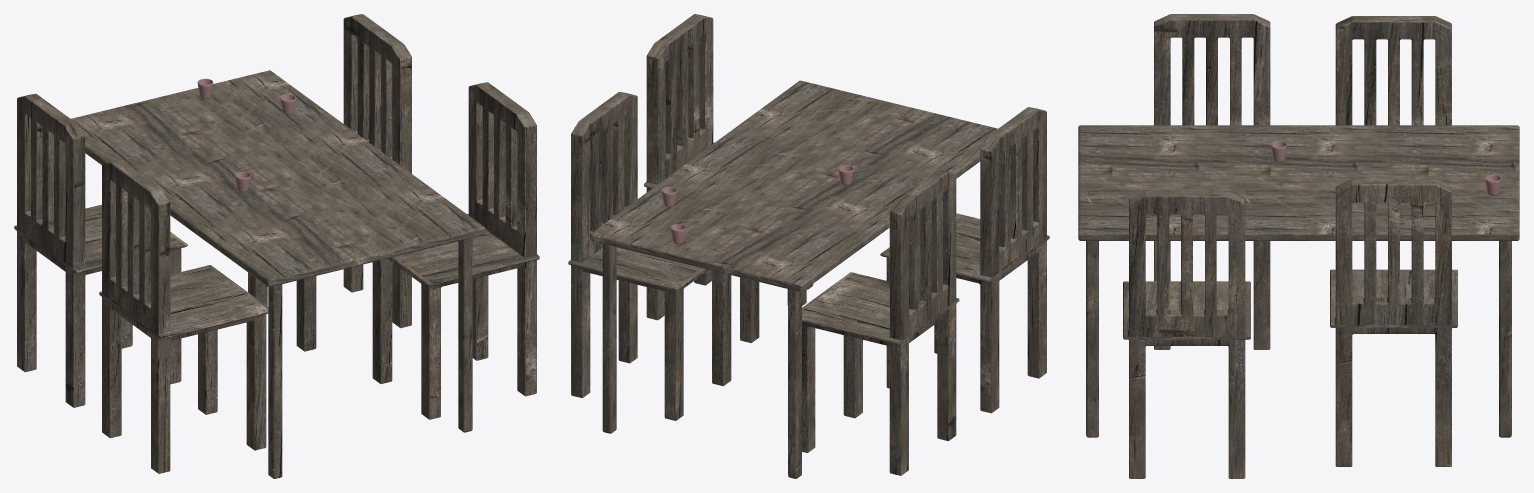
3 views of the same model, side by side, from view 1: azimuth 30°, elevation 25°; view 2: azimuth 150°, elevation 25°; view 3: azimuth 270°, elevation 25° (orthographic). The views are drawn at different scales.
Visible parts, largest first — view 1: Cube_0, Cube.002_5, Cube.004_7, Cube.001_4, Cube.003_6; view 2: Cube_0, Cube.001_4, Cube.003_6, Cube.002_5, Cube.004_7; view 3: Cube_0, Cube.003_6, Cube.004_7, Cube.002_5, Cube.001_4.
Boxes of the visible parts, x1,y1,x2,y2 form: Cube_0: (71,70,485,478); Cube.002_5: (99,159,268,473); Cube.004_7: (372,82,539,419); Cube.001_4: (14,93,187,407); Cube.003_6: (248,14,411,351); Cube_0: (590,80,997,478); Cube.001_4: (802,169,959,475); Cube.003_6: (568,92,731,420); Cube.002_5: (880,107,1049,413); Cube.004_7: (644,14,806,343); Cube_0: (1078,125,1519,437); Cube.003_6: (1330,179,1457,466); Cube.004_7: (1123,191,1250,478); Cube.002_5: (1154,14,1270,349); Cube.001_4: (1335,16,1451,125).
Size of the model in its own units: 1.95 by 1.41 by 1.99.
2 materials, 1 textured.
